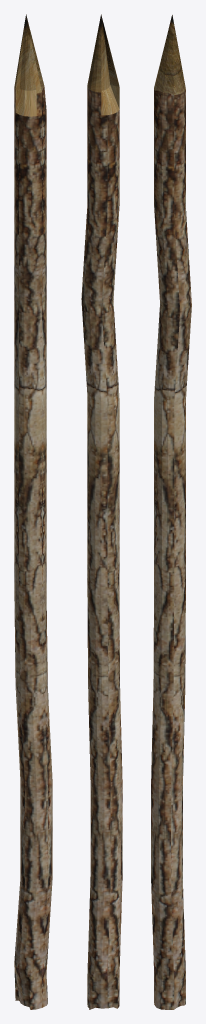
File: spear_test.glb
3 renders of one model, left to right at view 1: azimuth 90°, elevation 25°; view 2: azimuth 150°, elevation 25°; view 3: azimuth 330°, elevation 25°, orthographic.
Visible parts, largest first — view 1: spear; view 2: spear; view 3: spear.
Part boxes in pixels (x1,y1,x2,y2): spear: (14, 14, 52, 1009); spear: (81, 14, 122, 1009); spear: (151, 15, 191, 1009).
Bounding box in the file's own units: 0.0821 × 2.29 × 0.0803.
2 materials, 2 textured.
